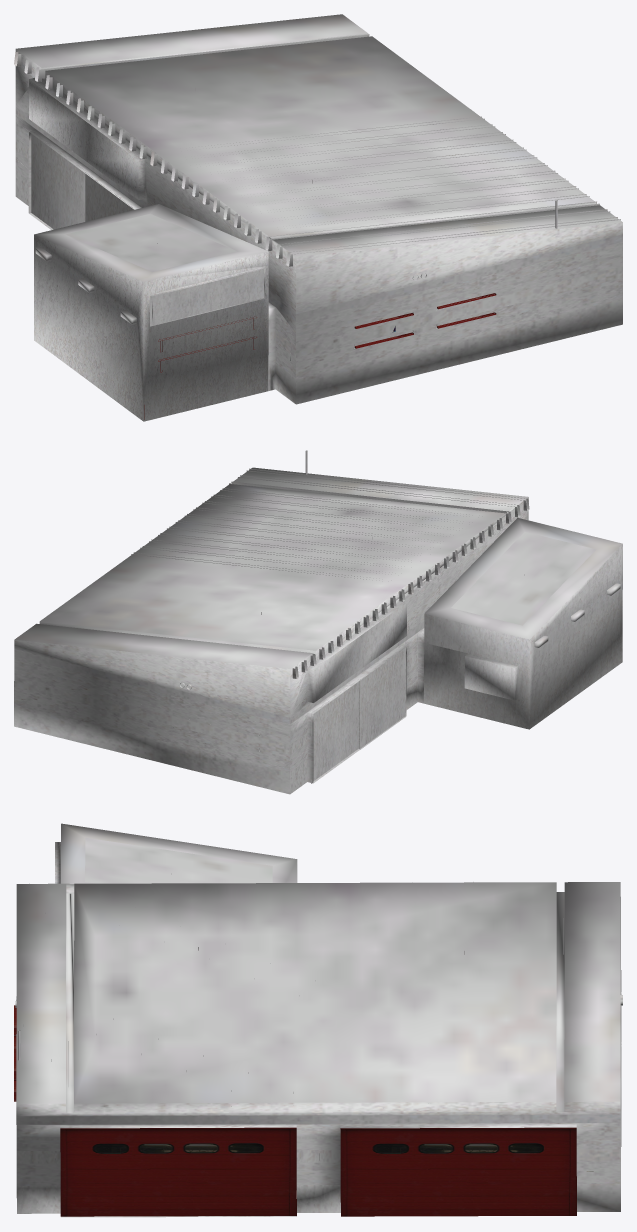
The model's file is garage.fbx.
3 views of the same model, one above another, from view 1: azimuth 30°, elevation 25°; view 2: azimuth 150°, elevation 25°; view 3: azimuth 270°, elevation 25° (orthographic). The views are drawn at different scales.
Visible parts, largest first — view 1: DrawCall15, DrawCall15.004; view 2: DrawCall15; view 3: DrawCall15, DrawCall15.003.
Boxes of the visible parts, x1,y1,x2,y2 form: DrawCall15: (14, 14, 622, 421); DrawCall15.004: (144, 293, 496, 419); DrawCall15: (14, 450, 622, 794); DrawCall15: (15, 823, 622, 1217); DrawCall15.003: (60, 1127, 576, 1216).
Bounding box in the file's own units: 1442 × 440 × 1503.
13 materials, 13 textured.
